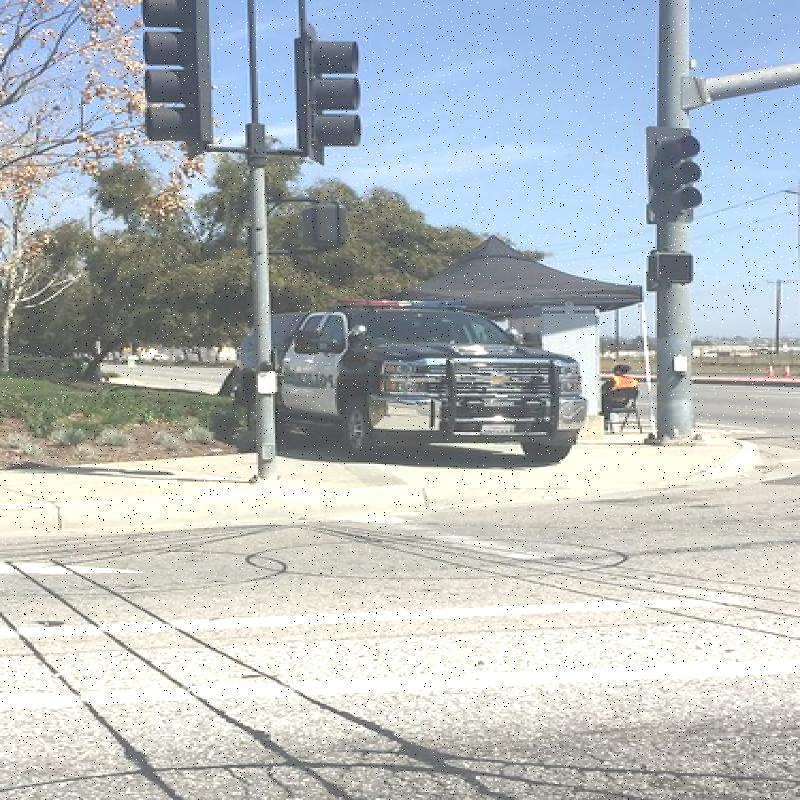AmbulanceSiren: (345, 290, 469, 312)
